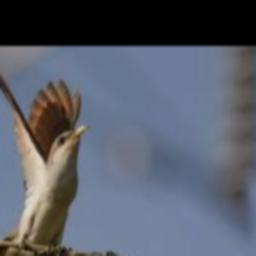Cuckoo: (0, 56, 91, 256)
